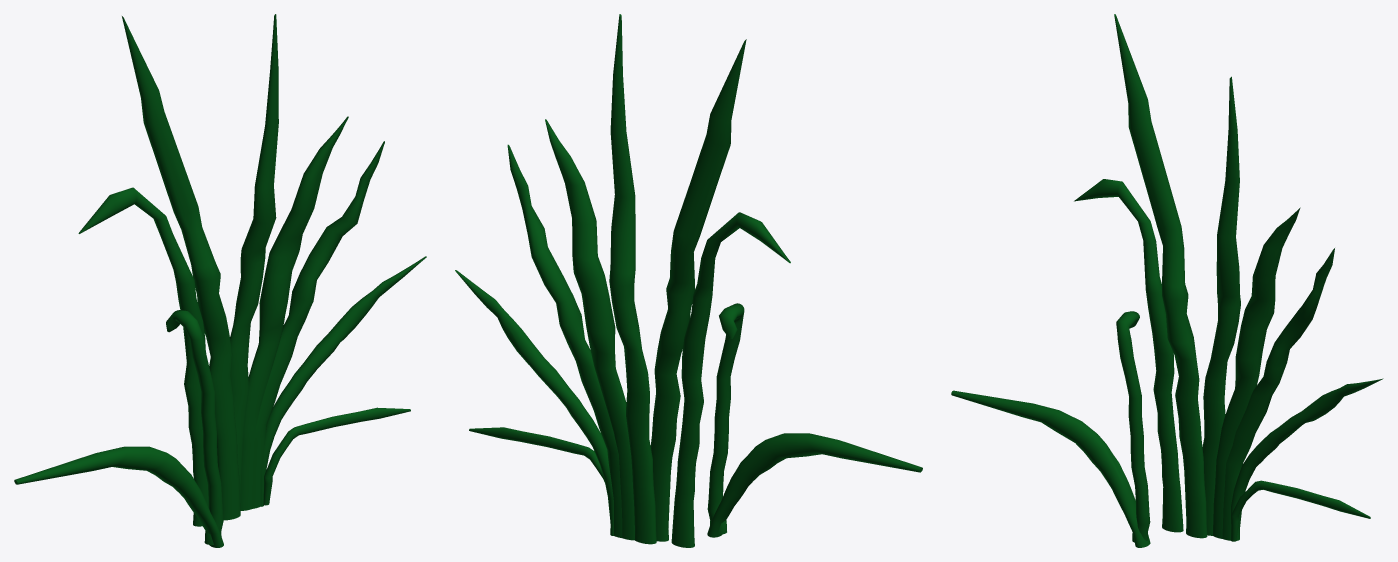
The model's file is Grass.fbx.
3 renders of one model, left to right at view 1: azimuth 30°, elevation 25°; view 2: azimuth 150°, elevation 25°; view 3: azimuth 330°, elevation 25°, orthographic. The views are drawn at different scales.
Visible parts, largest first — view 1: pCylinder4; view 2: pCylinder4; view 3: pCylinder4.
Boxes of the visible parts, bbox=[...] form: pCylinder4: bbox=[14, 14, 426, 547]; pCylinder4: bbox=[455, 14, 922, 547]; pCylinder4: bbox=[951, 14, 1383, 547].
Bounding box in the file's own units: 3.57 × 4.11 × 0.5688.
